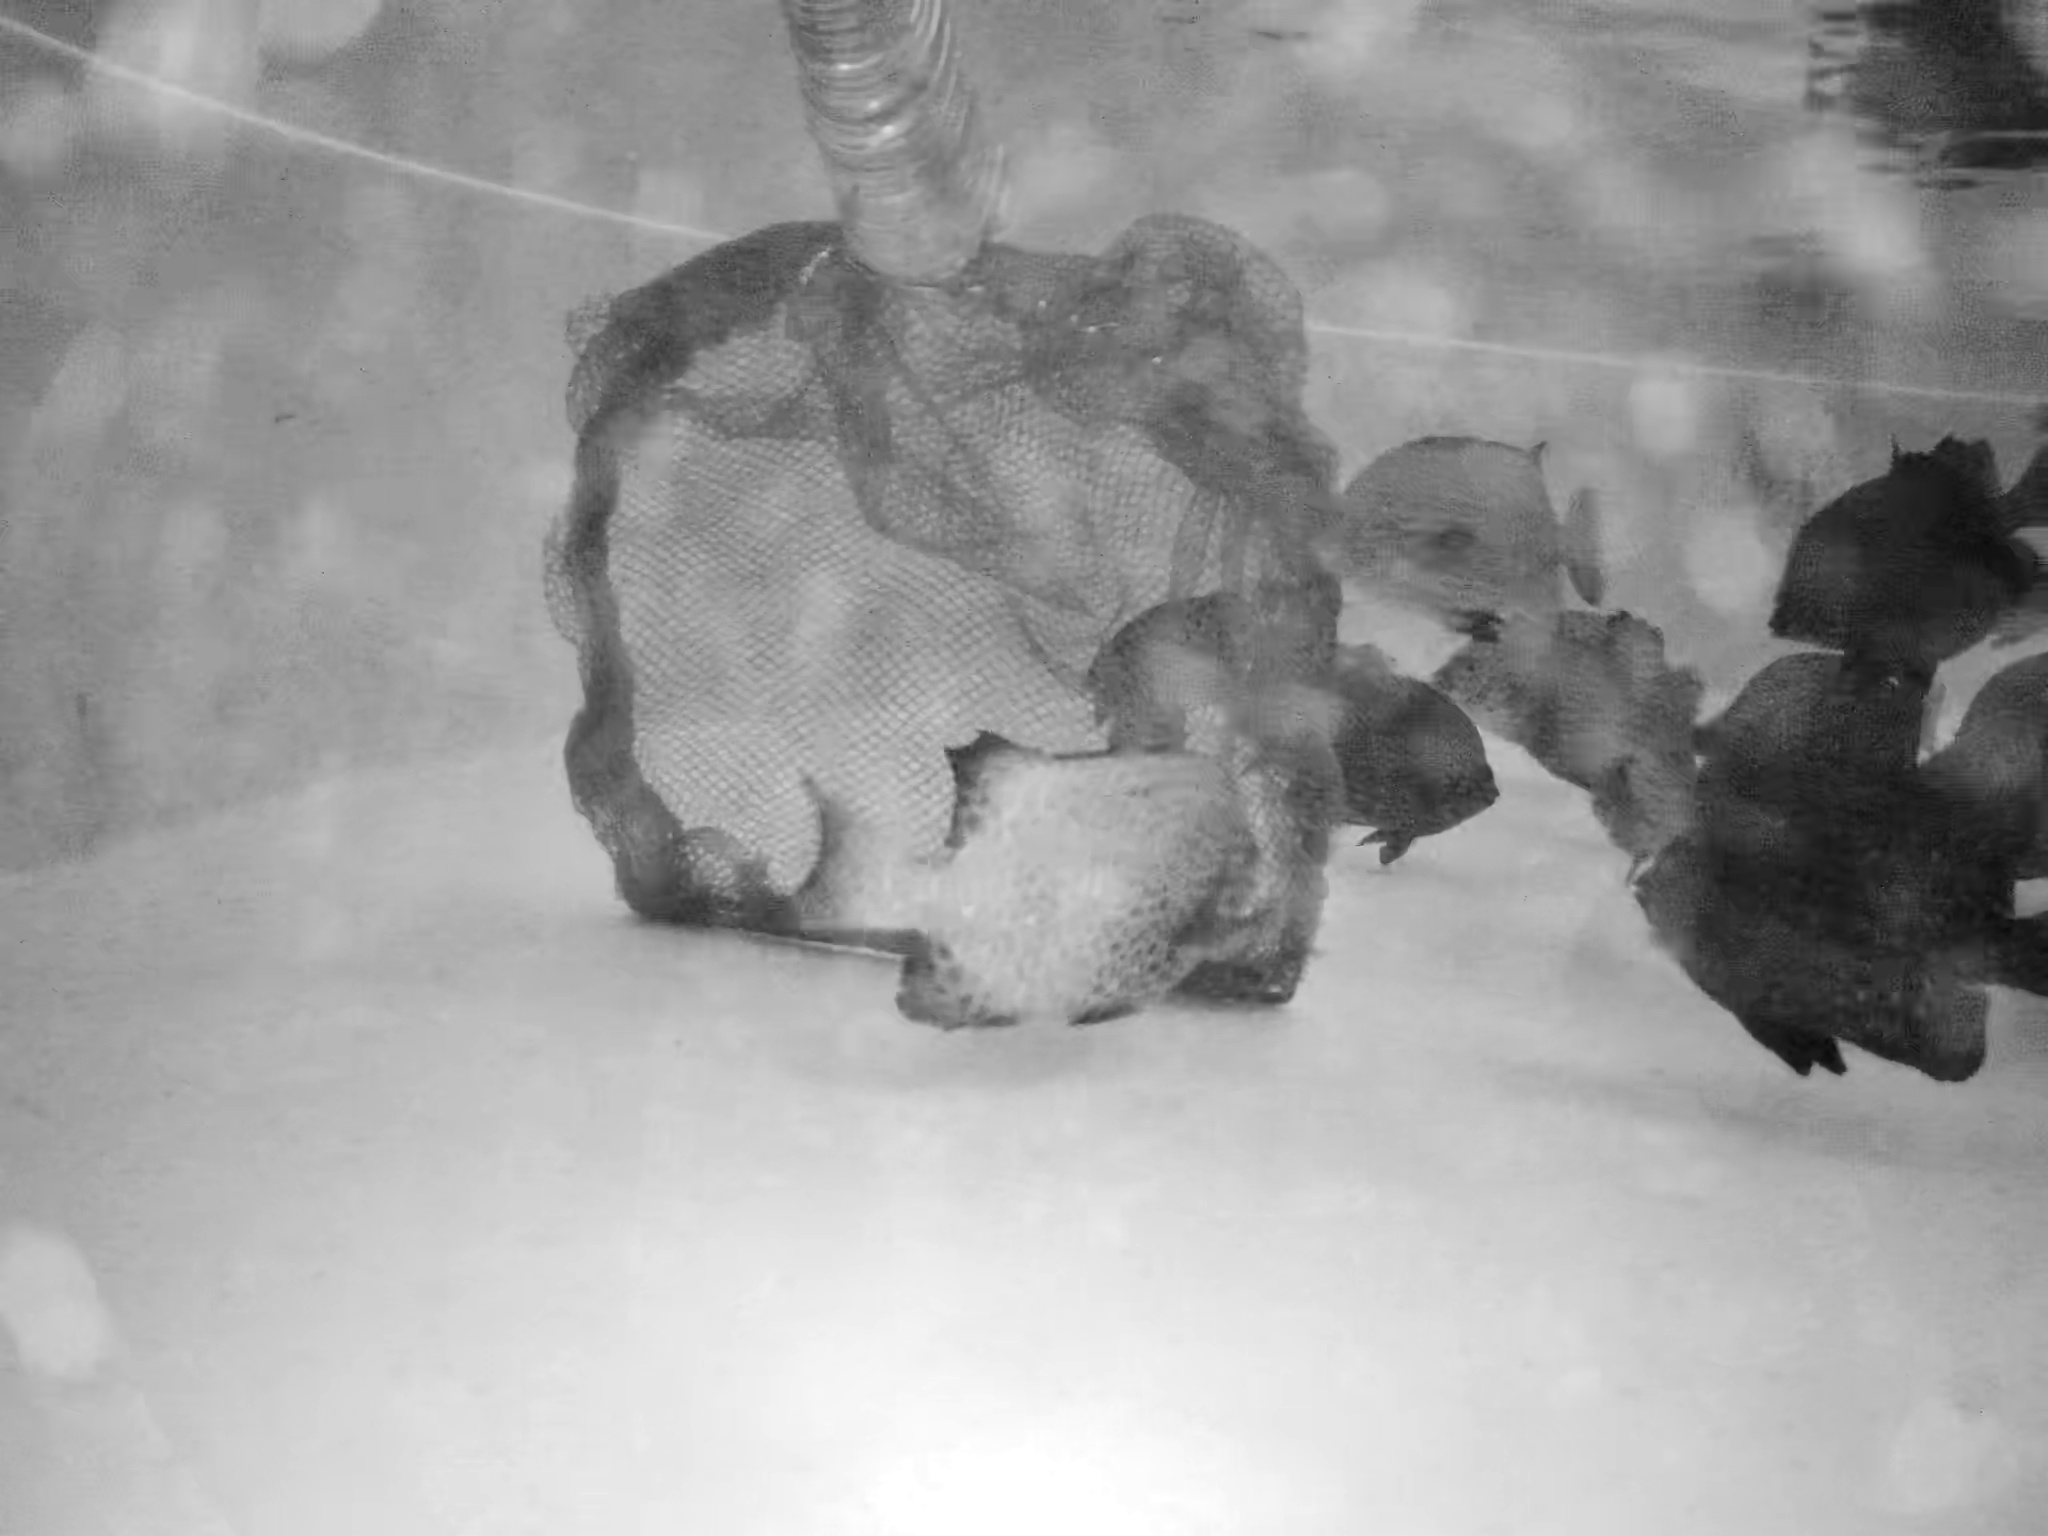fish: (813, 703, 1268, 1015), (1627, 773, 2045, 1015), (1301, 416, 1616, 636), (1764, 429, 2045, 660), (1100, 599, 1345, 774), (1293, 657, 1493, 860), (1685, 652, 1927, 808), (1488, 591, 1679, 760), (1850, 923, 2016, 1094), (1929, 660, 2048, 895)
